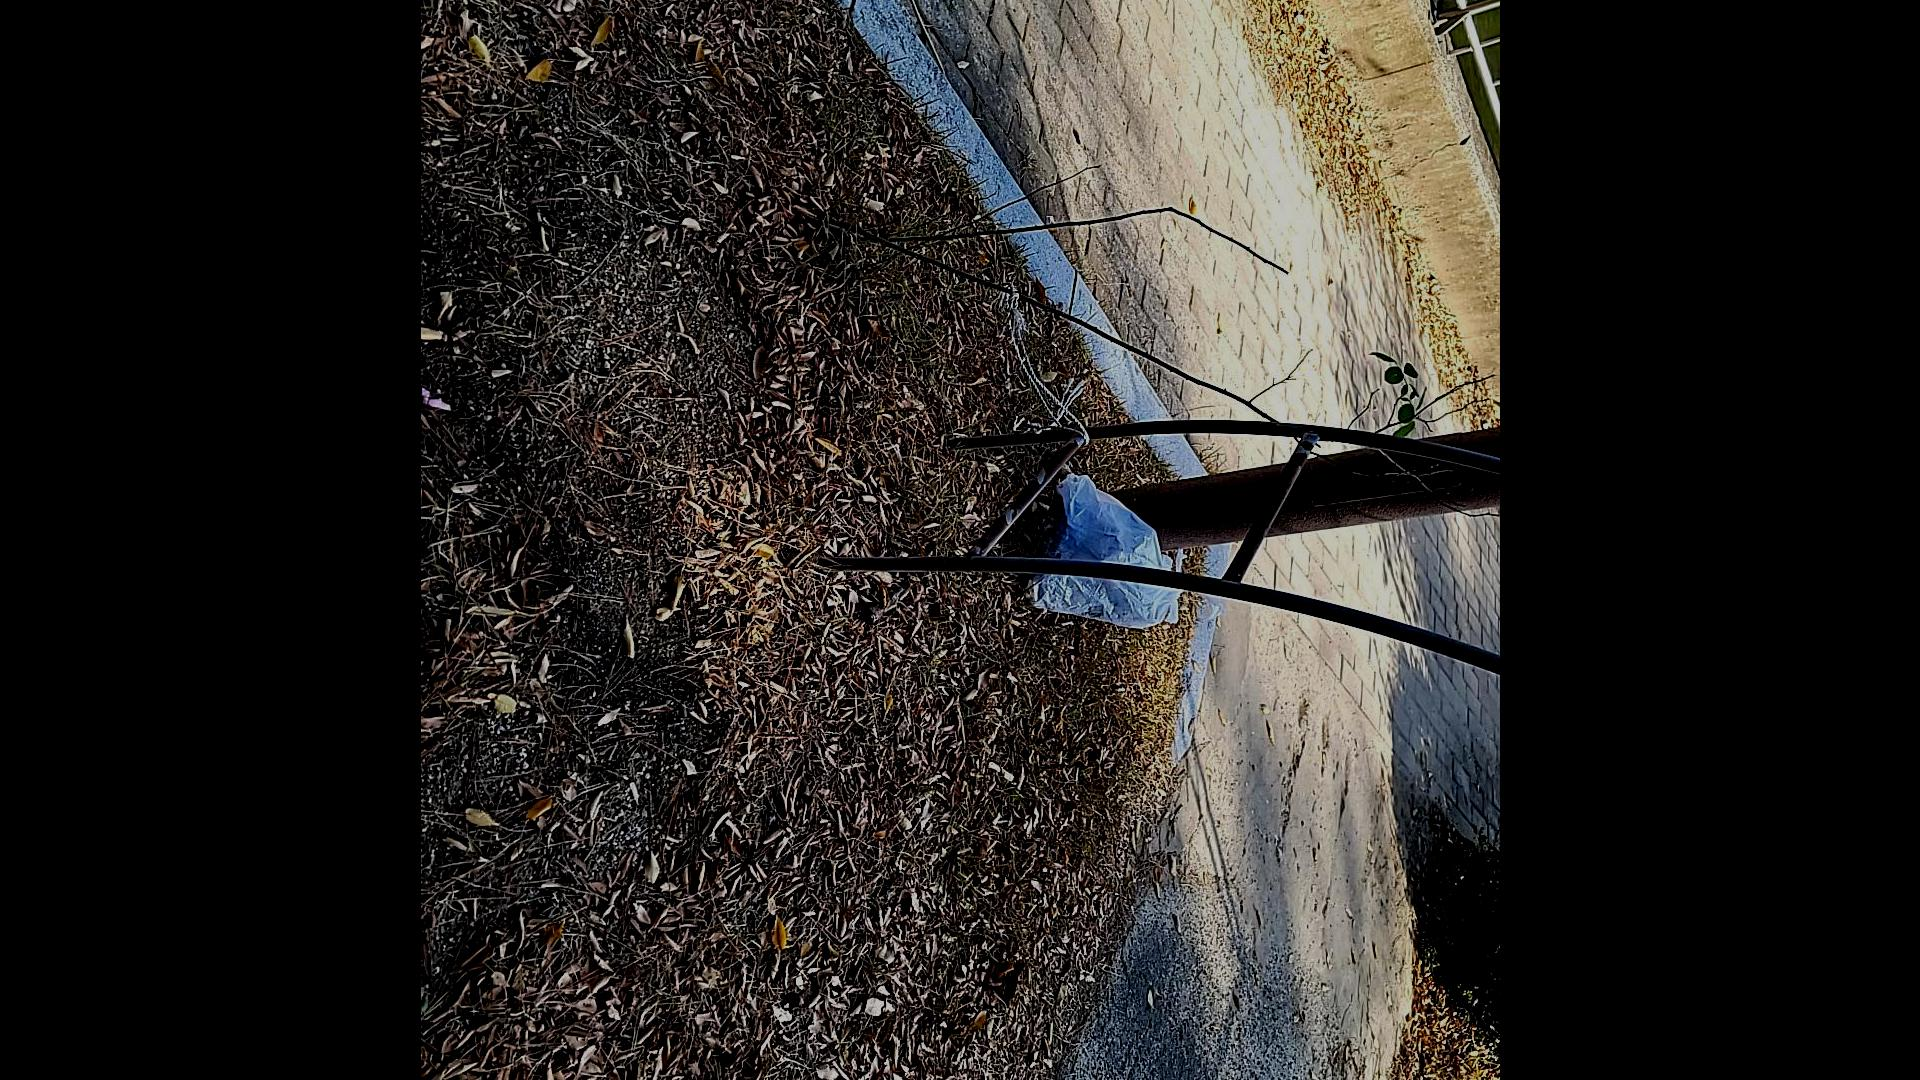white_bag: (1013, 459, 1211, 632)
